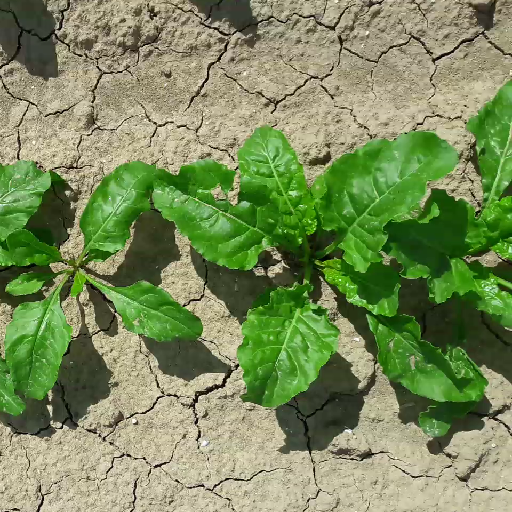sugarbeet: (146, 117, 475, 412), (1, 152, 205, 411), (372, 71, 512, 437)
